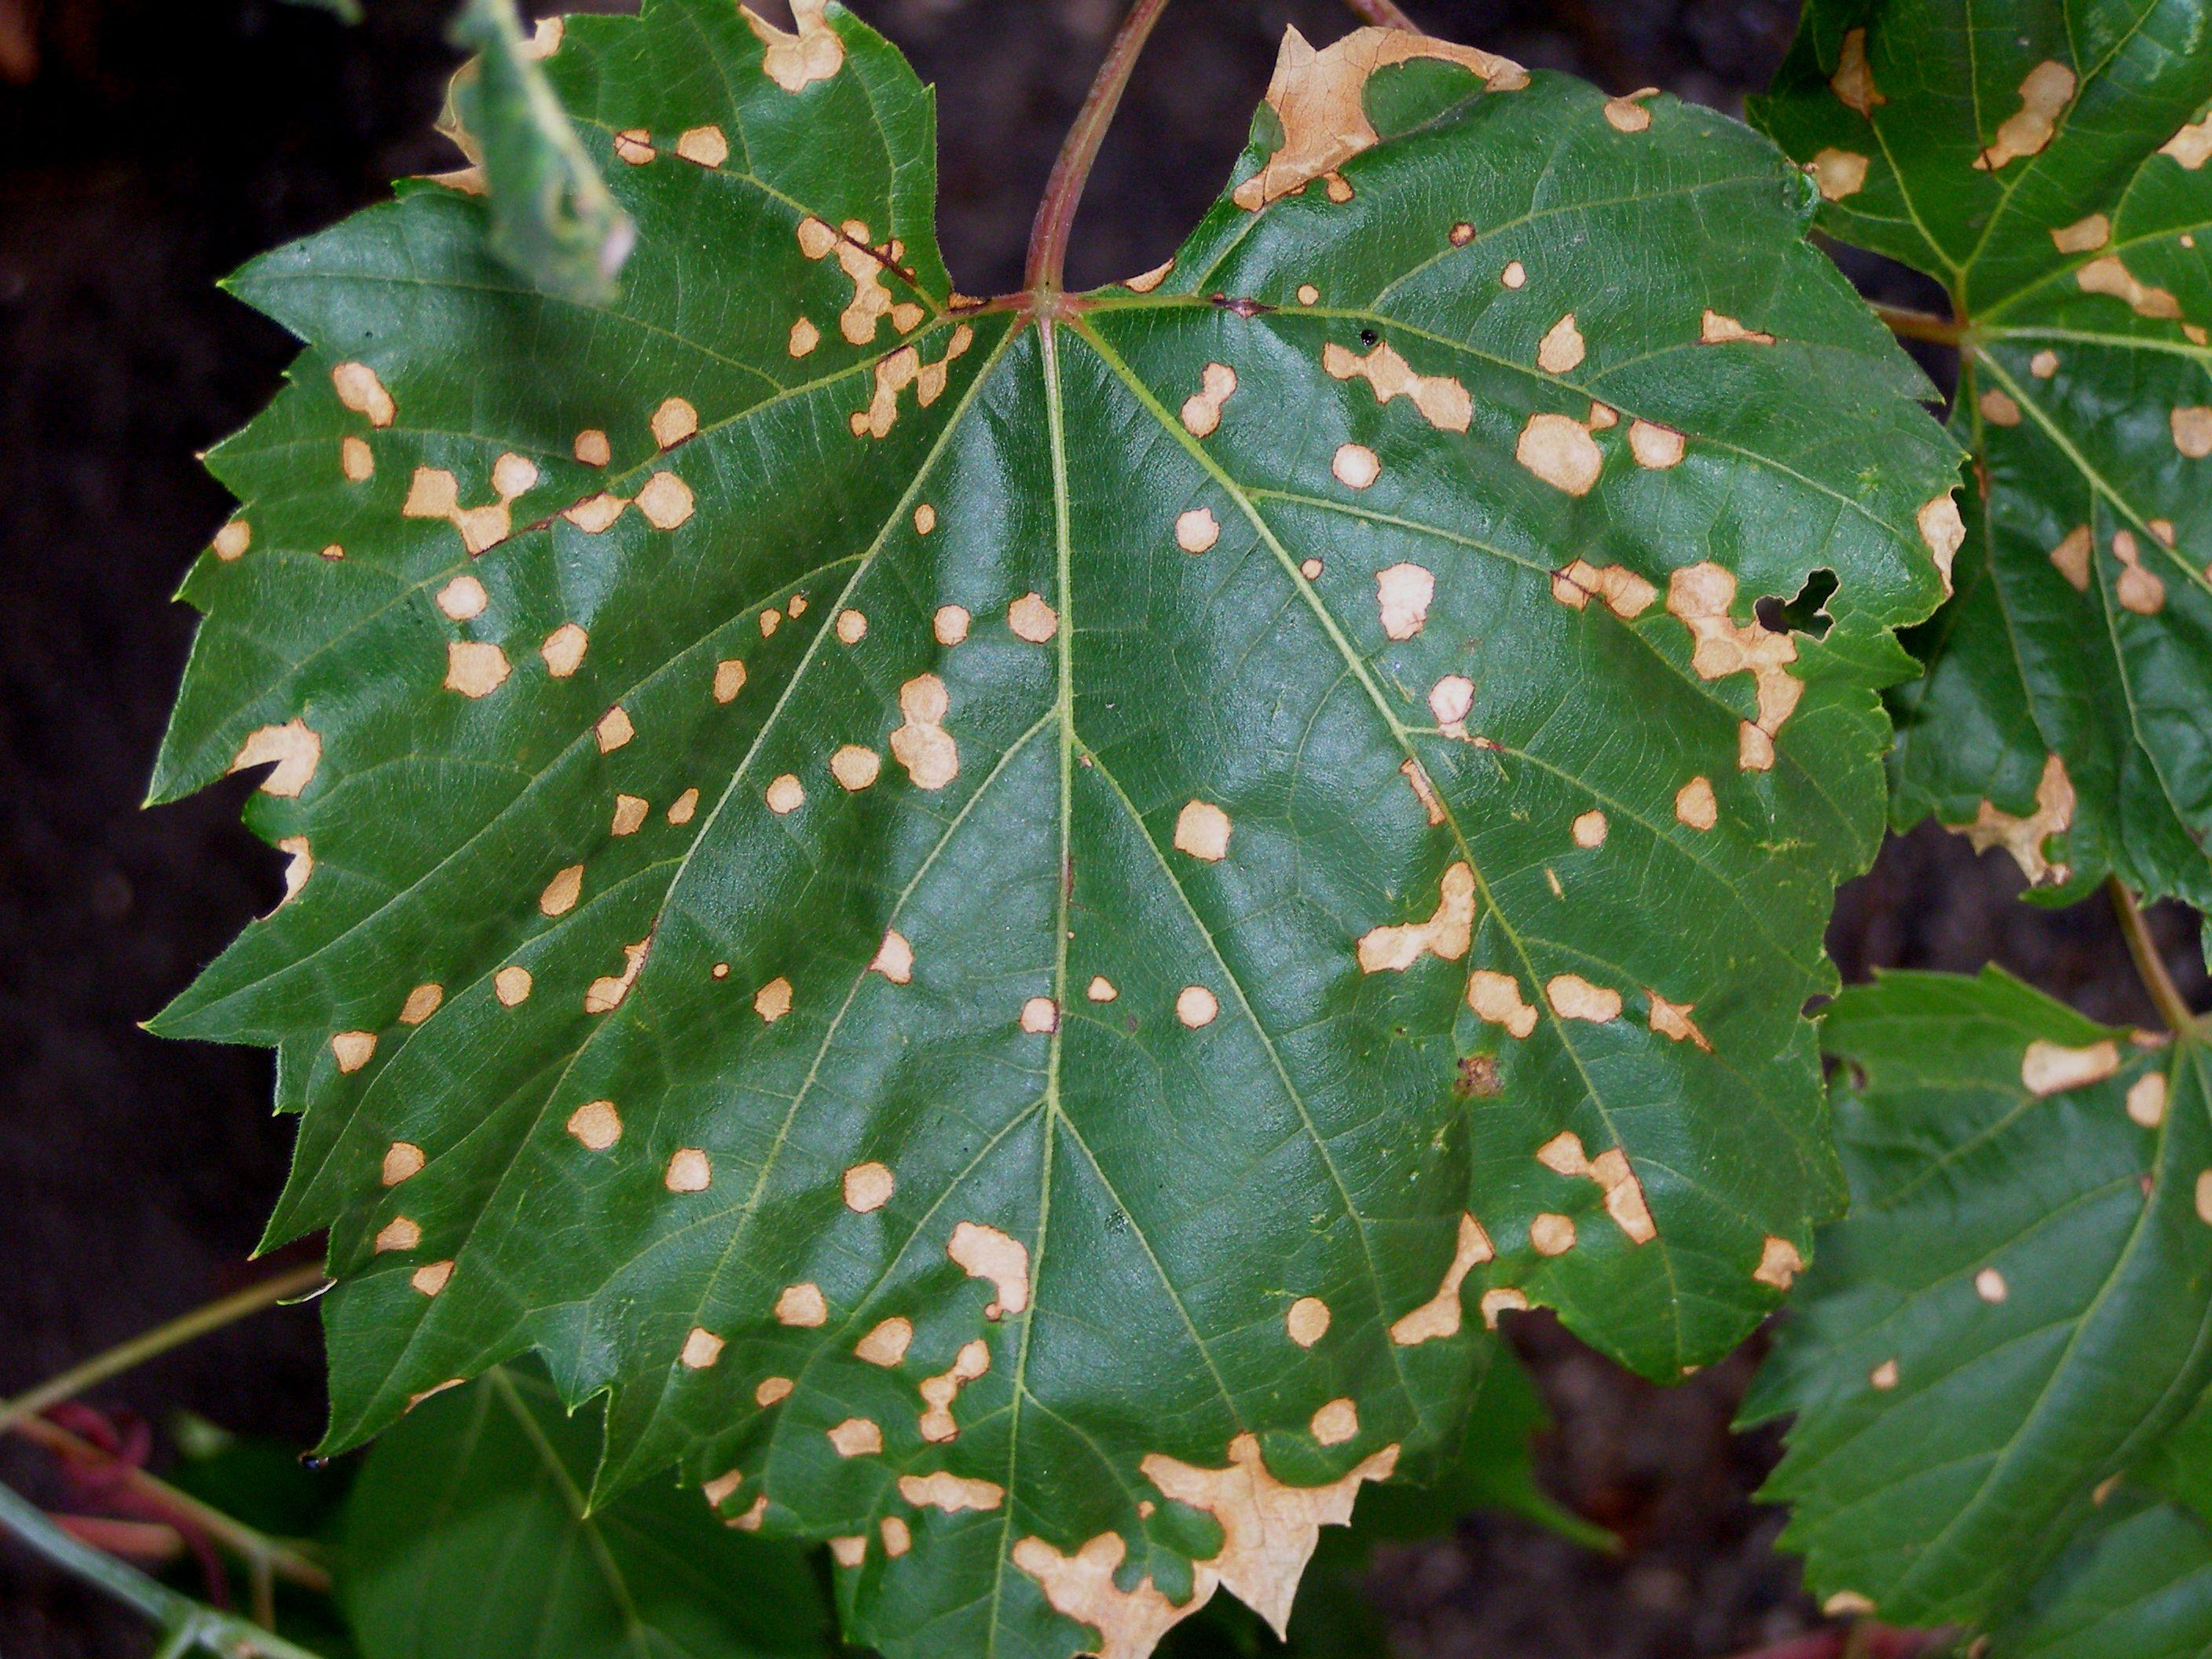grape leaf: (85, 16, 1958, 1645)
